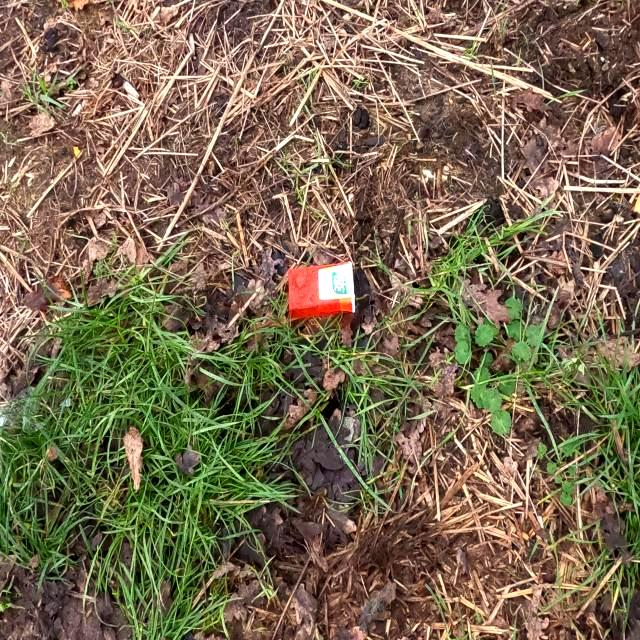Plastic: (287, 261, 355, 321)
